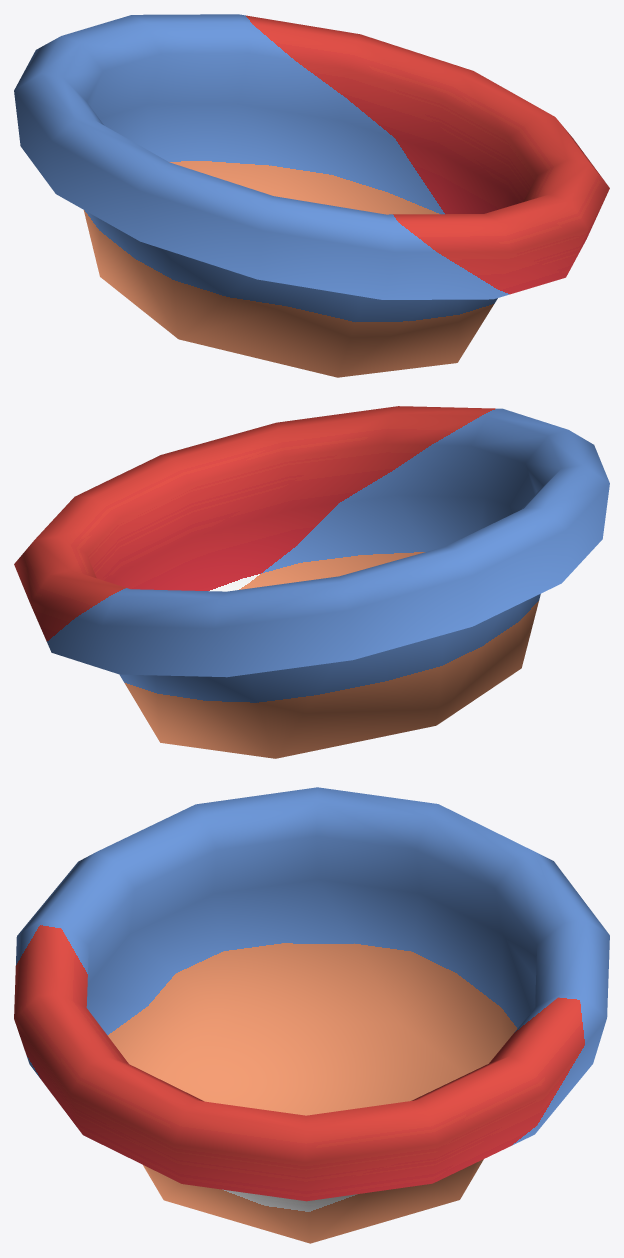
Rendered from D_CoralReef.151.glb.
3 views of the same model, one above another, from view 1: azimuth 30°, elevation 25°; view 2: azimuth 150°, elevation 25°; view 3: azimuth 270°, elevation 25° (orthographic).
Parts seen in each view (by area): view 1: D_CoralReef.151; view 2: D_CoralReef.151; view 3: D_CoralReef.151.
Boxes of the visible parts, box(x1,y1,x2,y2) form: D_CoralReef.151: box(14, 14, 609, 377); D_CoralReef.151: box(14, 406, 609, 758); D_CoralReef.151: box(14, 787, 609, 1243).
Bounding box in the file's own units: 0.1406 × 0.0714 × 0.1401.
1 material, 1 textured.
